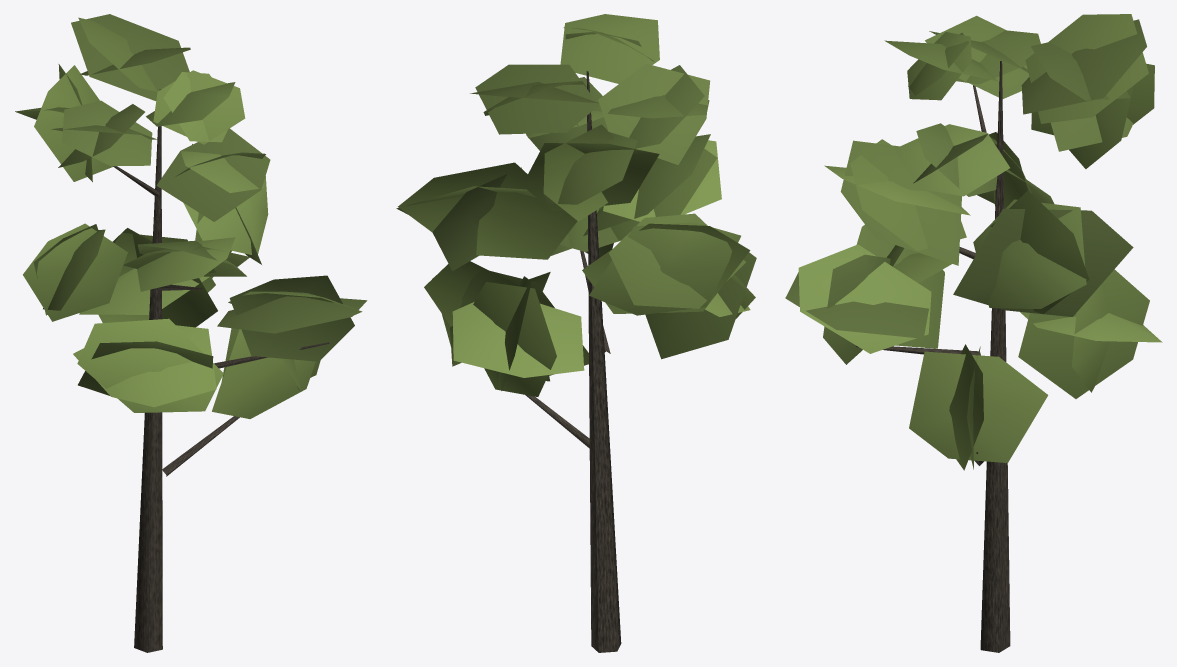
Rendered from young_05_lod3.glb.
The picture shows the model from 3 angles, left to right: view 1: azimuth 30°, elevation 25°; view 2: azimuth 150°, elevation 25°; view 3: azimuth 270°, elevation 25°; orthographic projection. The views are drawn at different scales.
Parts seen in each view (by area): view 1: individual_curved_leaf_sprigs, retained_branches_0; view 2: individual_curved_leaf_sprigs, retained_branches_0; view 3: individual_curved_leaf_sprigs, retained_branches_0.
Boxes of the visible parts, x1=… form: individual_curved_leaf_sprigs: x1=15, y1=14, x2=367, y2=418; retained_branches_0: x1=113, y1=89, x2=329, y2=652; individual_curved_leaf_sprigs: x1=396, y1=14, x2=756, y2=396; retained_branches_0: x1=525, y1=71, x2=621, y2=652; individual_curved_leaf_sprigs: x1=785, y1=14, x2=1162, y2=470; retained_branches_0: x1=856, y1=61, x2=1010, y2=652.
Bounding box in the file's own units: 4.38 × 7.84 × 4.27.
Materials: 2 (1 with a texture image).
